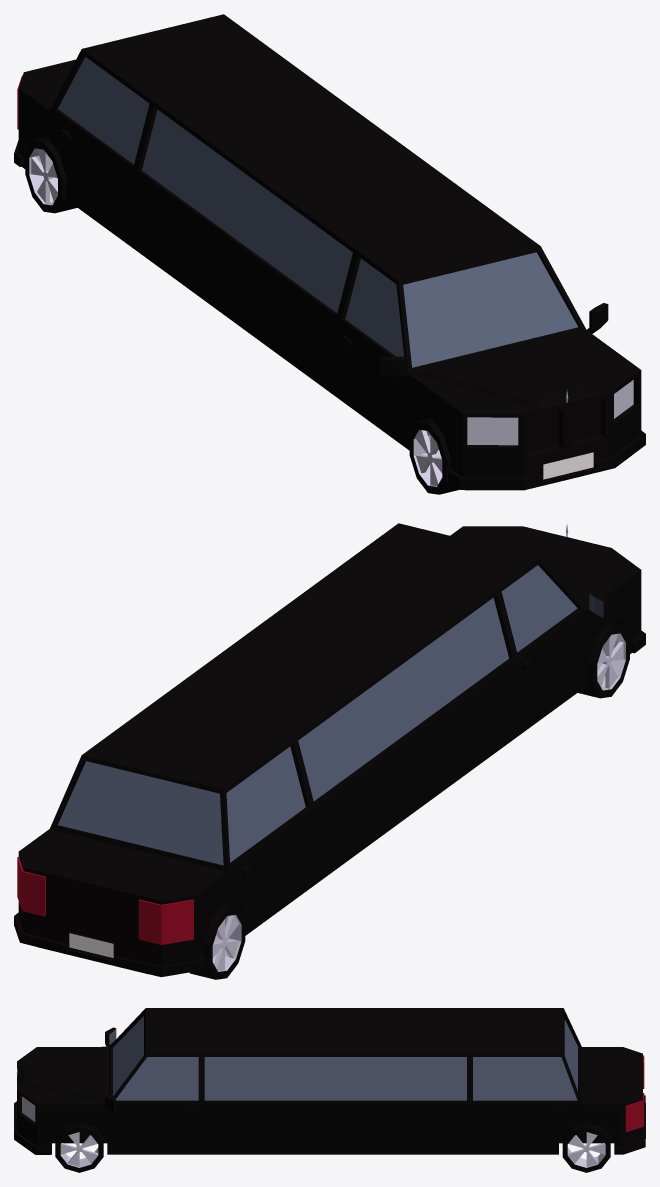
Rendered from mod-limusine.gltf.
The picture shows the model from 3 angles, top to bottom: view 1: azimuth 30°, elevation 25°; view 2: azimuth 150°, elevation 25°; view 3: azimuth 270°, elevation 25°; orthographic projection. The views are drawn at different scales.
Parts seen in each view (by area): view 1: Limousine, Limousine wheel front left; view 2: Limousine, Limousine wheel front left; view 3: Limousine, Limousine wheel front left.
Boxes of the visible parts, box(x1,y1,x2,y2) form: Limousine: box(14, 14, 645, 490); Limousine wheel front left: box(25, 137, 459, 494); Limousine: box(14, 523, 645, 977); Limousine wheel front left: box(189, 622, 629, 979); Limousine: box(14, 1008, 645, 1154); Limousine wheel front left: box(55, 1123, 610, 1172).
Bounding box in the file's own units: 2.18 × 1.56 × 7.95.
